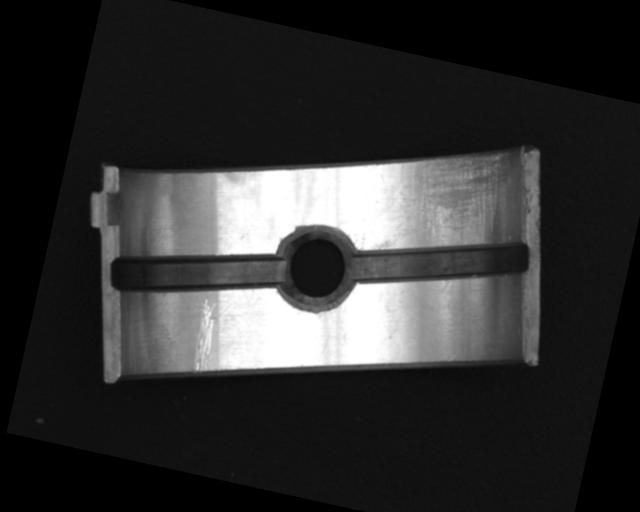gap: (345, 210, 532, 318), (105, 224, 291, 325)
hole: (265, 214, 367, 322)
nick: (188, 296, 221, 376)
scratch: (371, 127, 518, 275)
